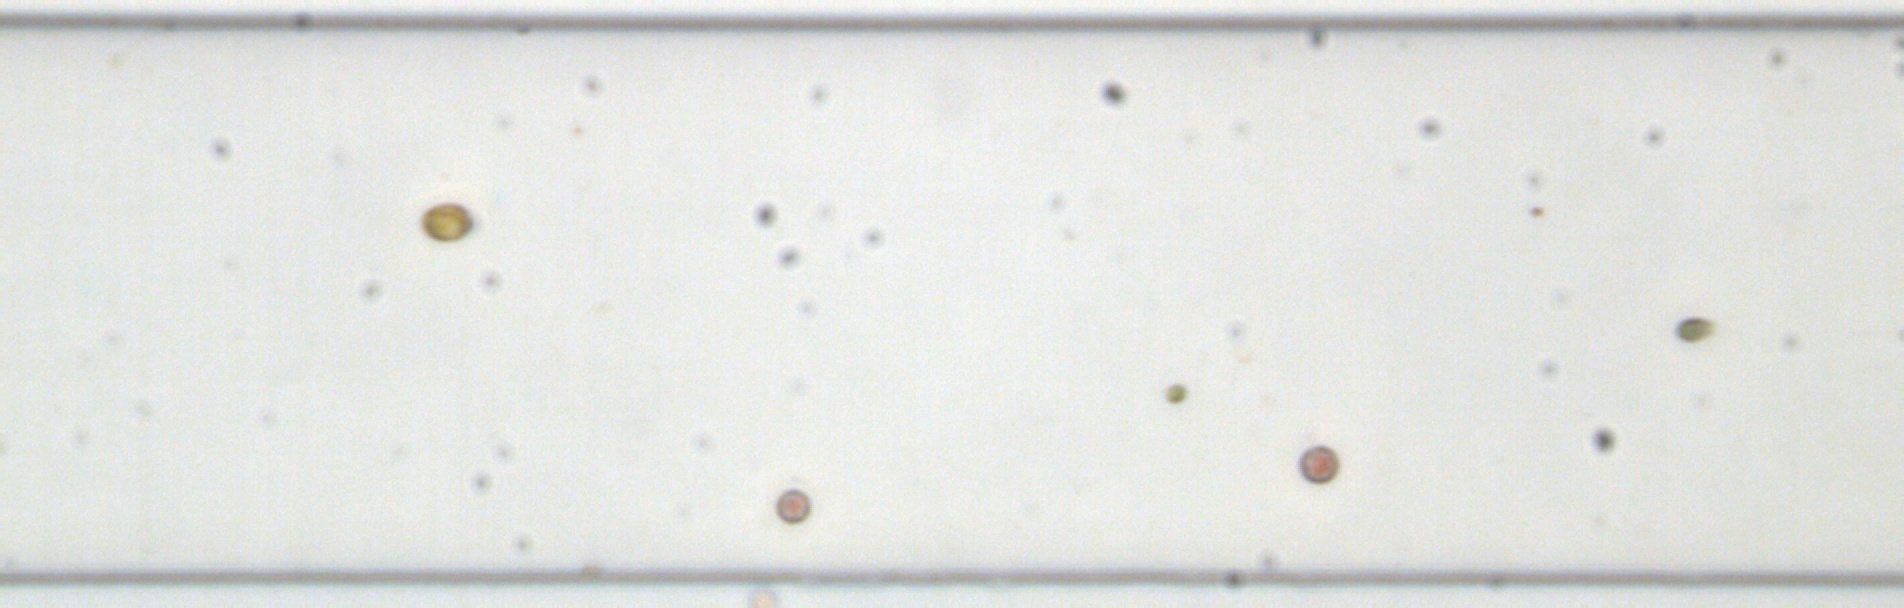Chlorella: (1162, 381, 1186, 404), (1528, 204, 1545, 217)
Dunaliella salina: (1670, 314, 1718, 346)
Effrenium: (416, 200, 478, 243)
Porphyridium: (1296, 441, 1339, 484), (771, 485, 814, 525)
